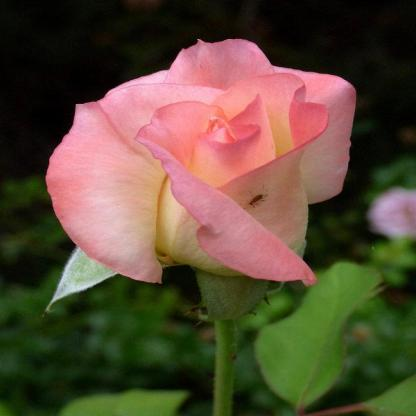aphid: (237, 187, 279, 215)
